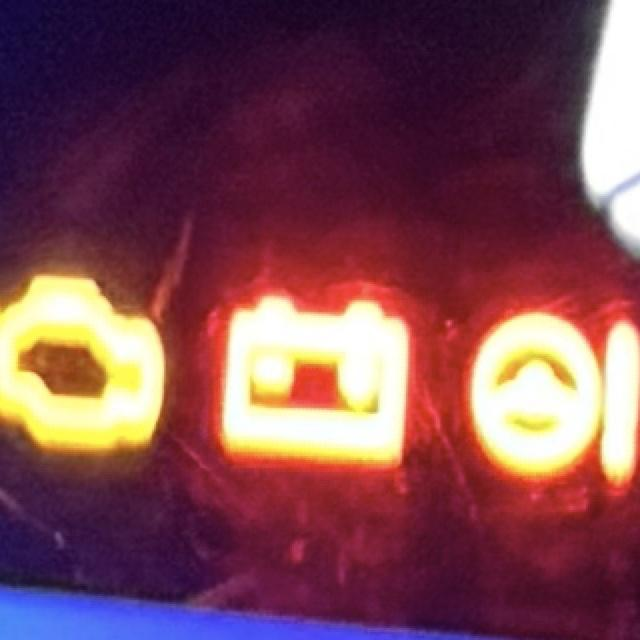Battery Issue: (217, 293, 413, 469)
Engine Issue: (1, 273, 170, 458)
Steering Wheel Locked: (468, 309, 640, 487)
